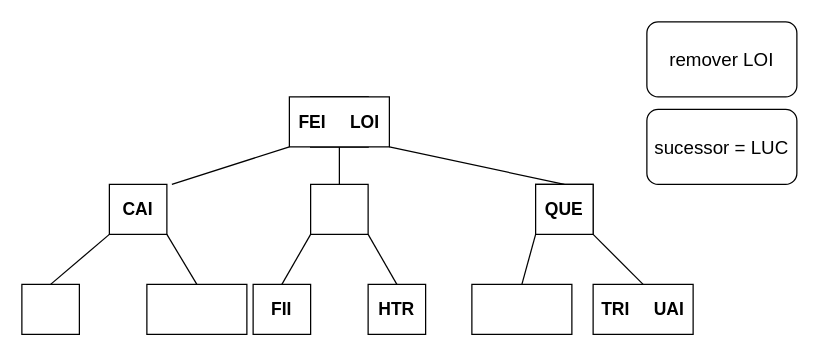
The diagram is 819 pixels wide and 356 high, and some of its shapes have lost their labels. Here are the shapes that lost their labels. From the top down, the box of each, then its label:
(309, 183, 368, 234): GOI
(21, 283, 79, 334): AIU
(146, 283, 247, 334): COF EFE
(471, 283, 572, 334): LUC PPA
